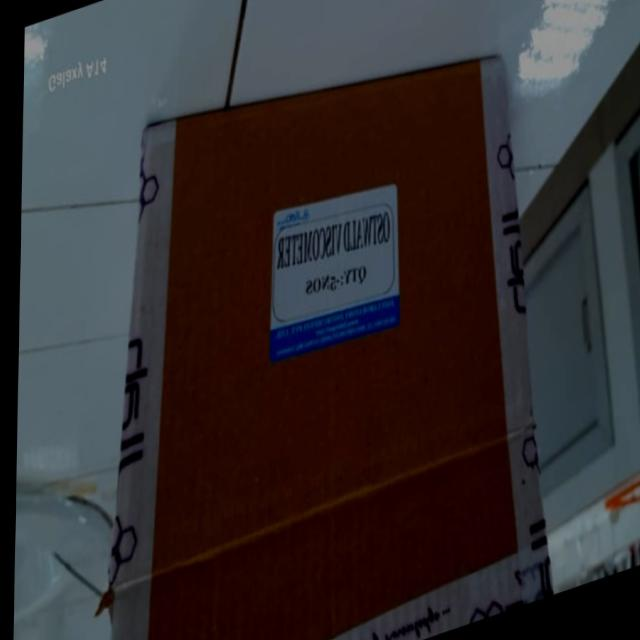Ostwald Viscometer: (134, 15, 517, 492)
